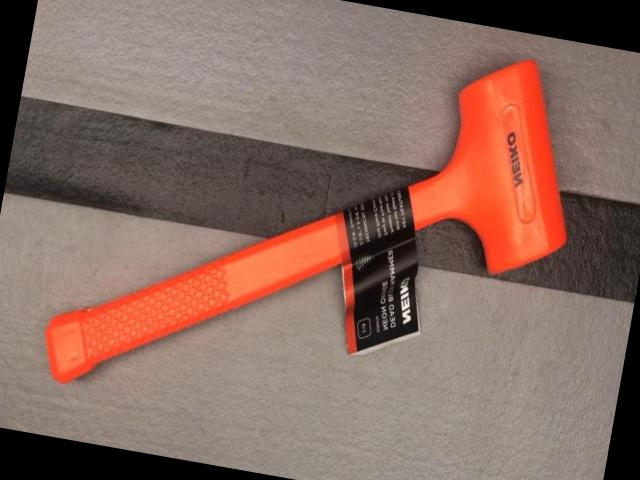hammer: (33, 0, 596, 465)
